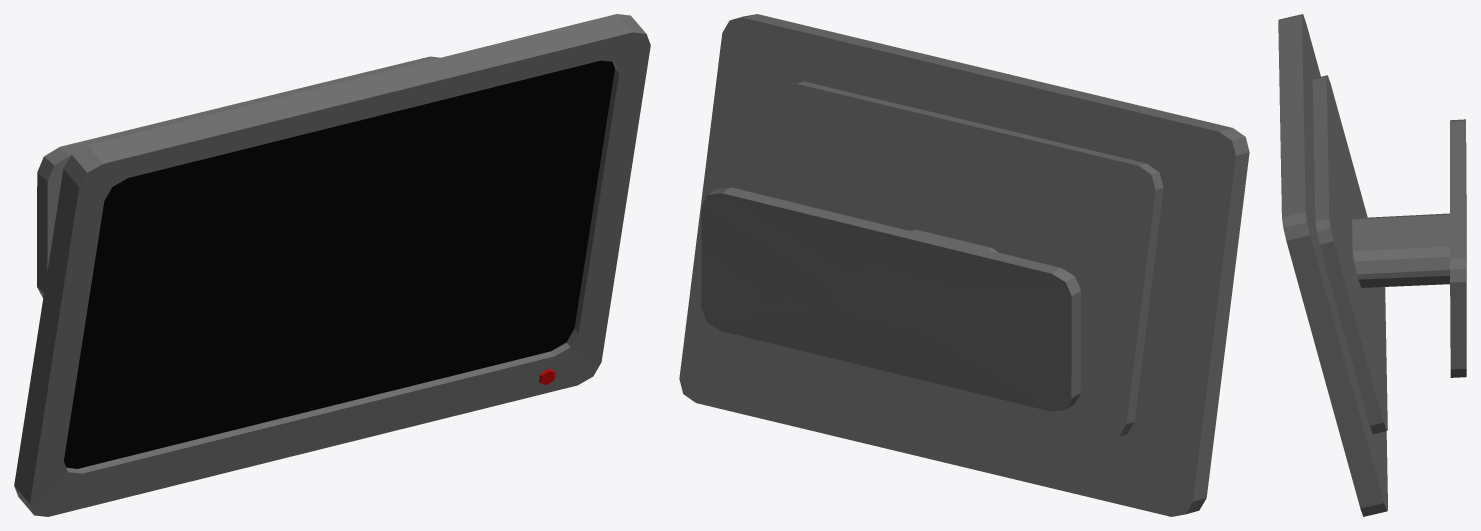
The picture shows the model from 3 angles, left to right: view 1: azimuth 30°, elevation 25°; view 2: azimuth 150°, elevation 25°; view 3: azimuth 270°, elevation 25°; orthographic projection. The views are drawn at different scales.
Parts seen in each view (by area): view 1: R_Tv; view 2: R_Tv; view 3: R_Tv.
Part boxes in pixels (bbox=[...]): R_Tv: bbox=[14, 14, 650, 516]; R_Tv: bbox=[679, 14, 1249, 516]; R_Tv: bbox=[1278, 14, 1466, 516].
Size of the model in its own units: 719 by 269 by 478.
